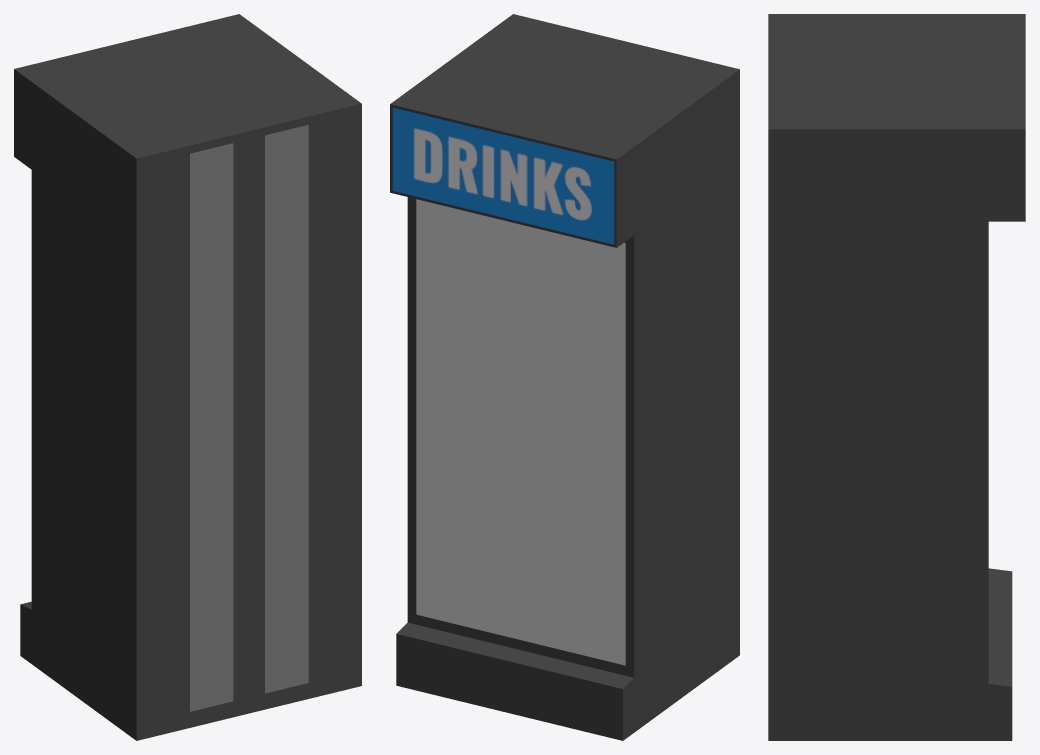
Rendered from Fridge.fbx.
3 renders of one model, left to right at view 1: azimuth 30°, elevation 25°; view 2: azimuth 150°, elevation 25°; view 3: azimuth 270°, elevation 25°, orthographic. The views are drawn at different scales.
Visible parts, largest first — view 1: Cube.001; view 2: Cube.001; view 3: Cube.001.
Part boxes in pixels (x1=…): Cube.001: x1=14, y1=14, x2=361, y2=740; Cube.001: x1=390, y1=14, x2=739, y2=740; Cube.001: x1=768, y1=14, x2=1025, y2=740.
Size of the model in its own units: 840 by 791 by 2074.
